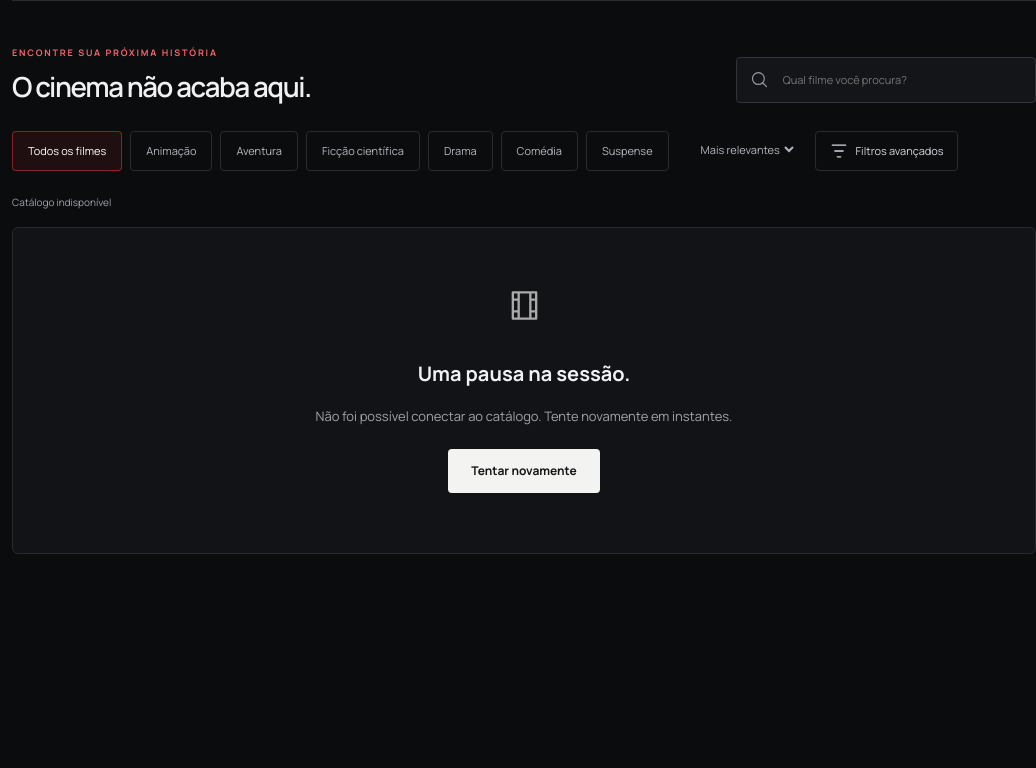
Test: Catálogo conectado › permite tentar novamente depois de uma falha de rede
Click the button "Tentar novamente" at [524, 471], box x1=448 y1=449 x2=600 y2=493
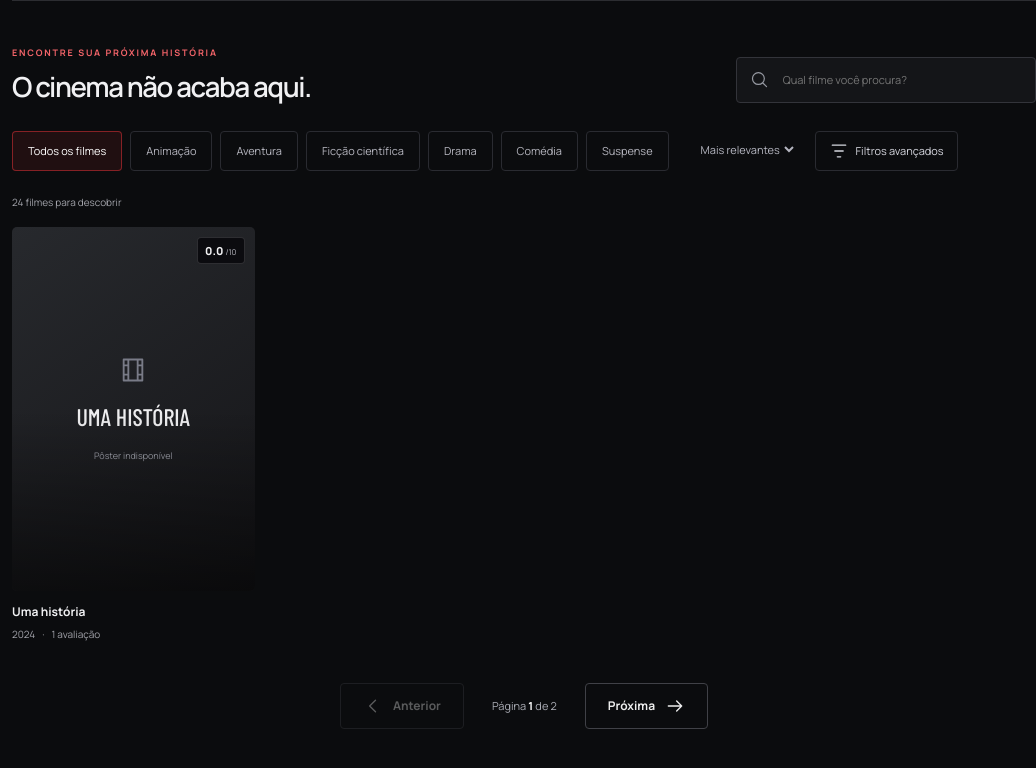
Check: the heading "Uma história" is shown, box x1=12 y1=602 x2=86 y2=620
